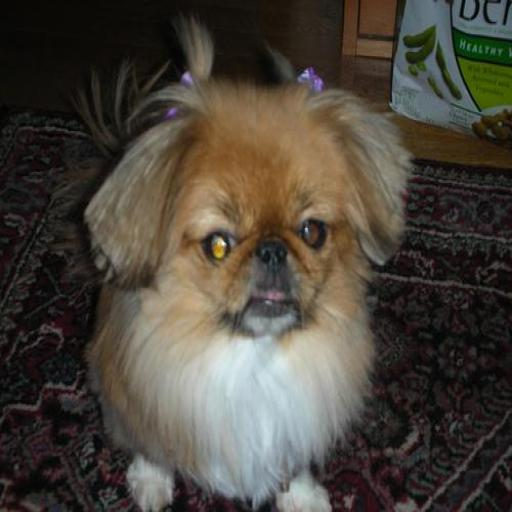dog_face: (112, 99, 398, 327)
